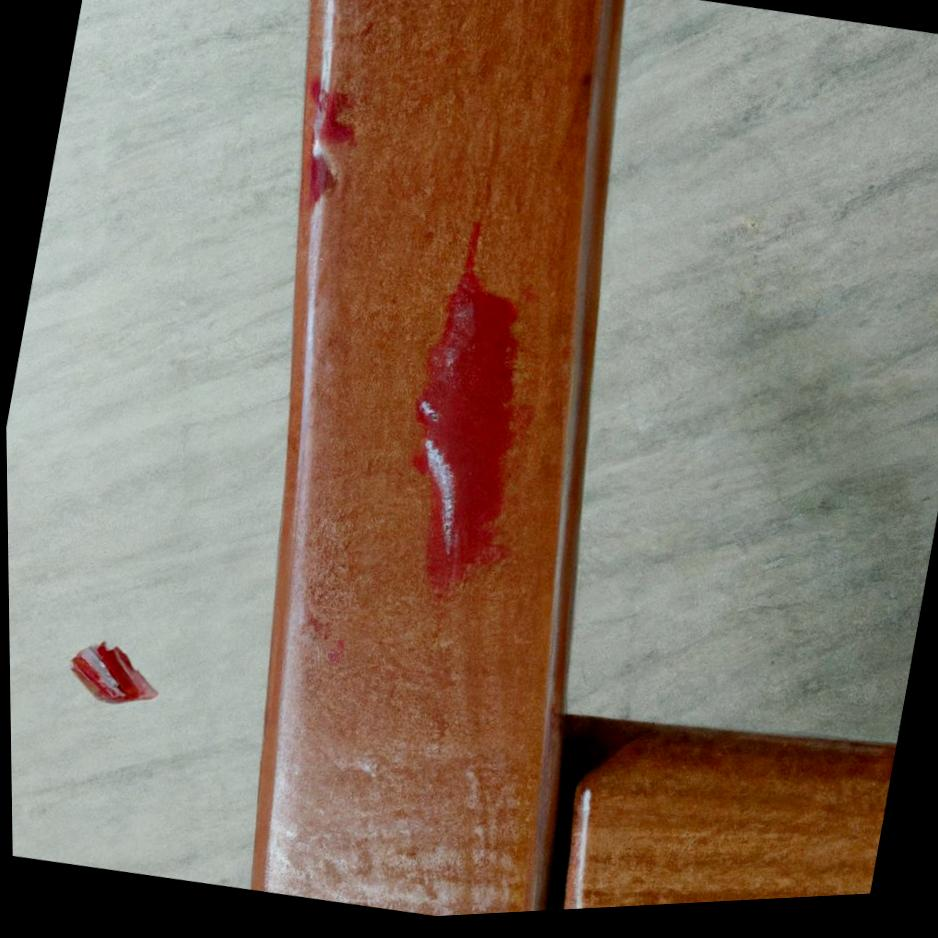Fire: (409, 226, 518, 605), (307, 81, 354, 151), (307, 155, 334, 211)
